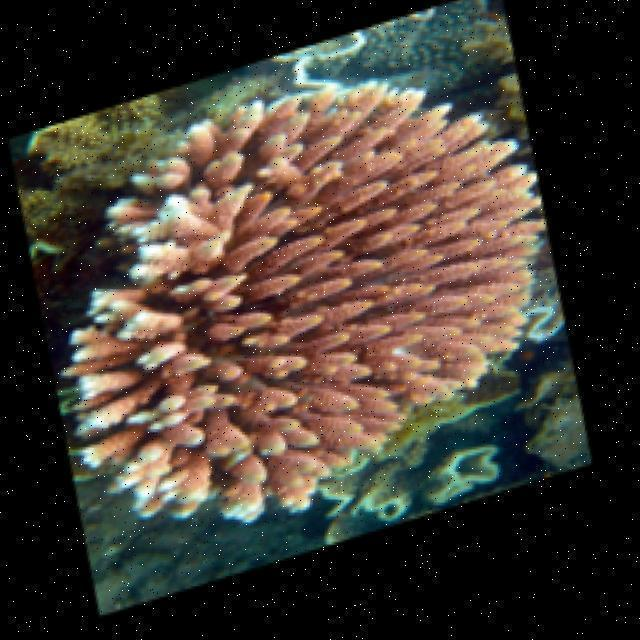Healthy Coral: (83, 112, 524, 559)
